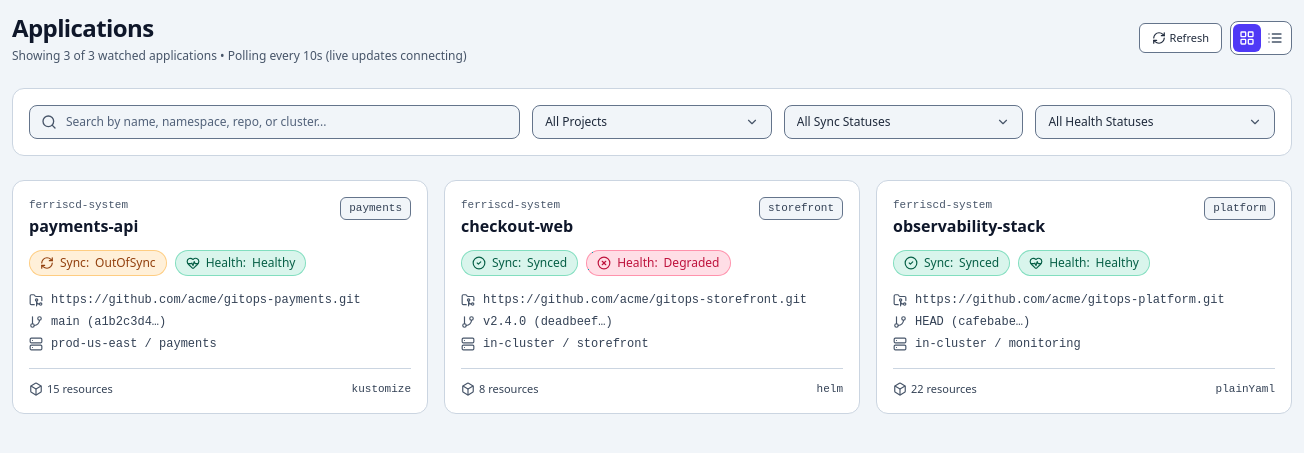
it: ApplicationsPage (T16.2 & Trap Guard T16.2) › seeds canonical sync/health options and keeps selected filter stable across polling updates (M5)
Expected: the heading "checkout-web" is shown, [461, 214, 573, 238]
Click the dropdown named "Filter by health status" at coordinates (1155, 122), box [1035, 105, 1275, 139]
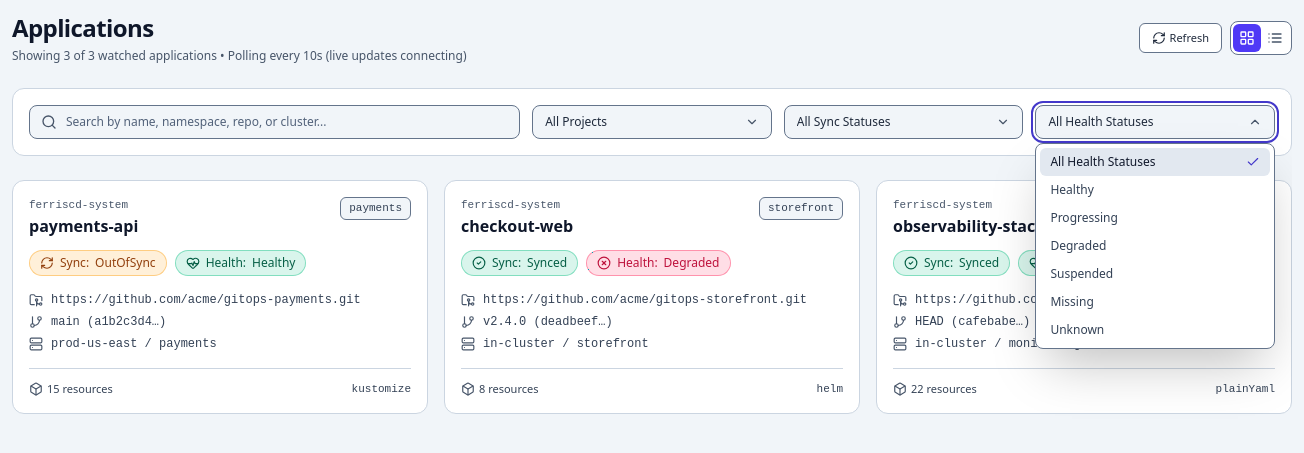
Now the option "Suspended" is shown, box [1050, 265, 1113, 282]
Now the option "Progressing" is shown, box [1050, 209, 1118, 226]
Note: Select Degraded, then refresh when all apps become Healthy
Click the option "Degraded" at coordinates (1078, 246), box [1050, 237, 1106, 254]
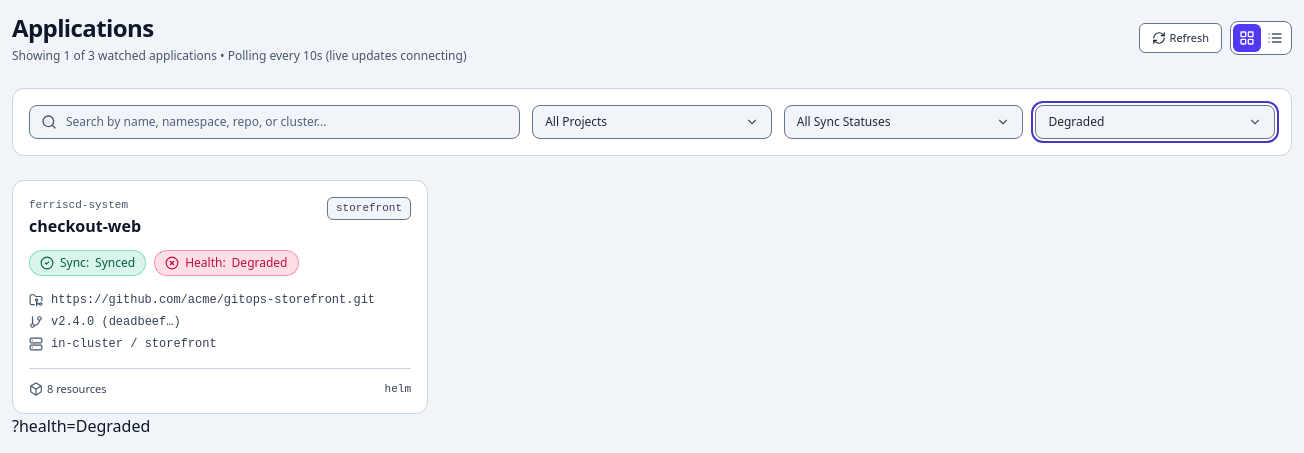
Expected: the heading "checkout-web" is shown, [29, 214, 141, 238]
Now the dropdown named "Filter by health status" reads "Degraded", box [1035, 105, 1275, 139]
Click the button "Refresh" at coordinates (1180, 38), box [1139, 23, 1222, 53]
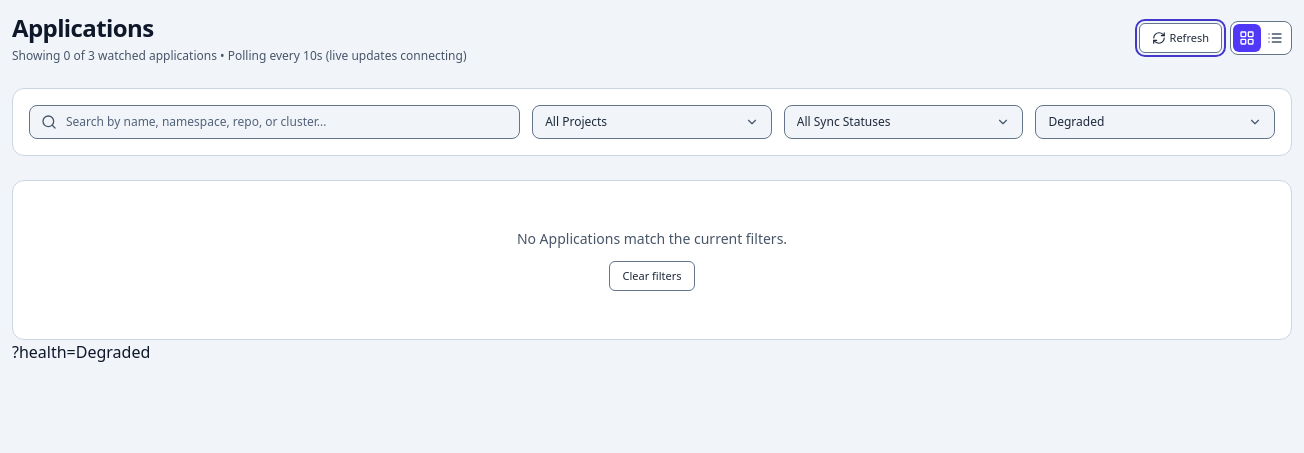
Now the dropdown named "Filter by health status" reads "Degraded", box [1035, 105, 1275, 139]
Now the text "No Applications match the current filters." is shown, box [517, 229, 787, 248]
Note: ...and the operator can recover with one click.
Click the button "Clear filters" at coordinates (652, 276), box [610, 261, 694, 291]
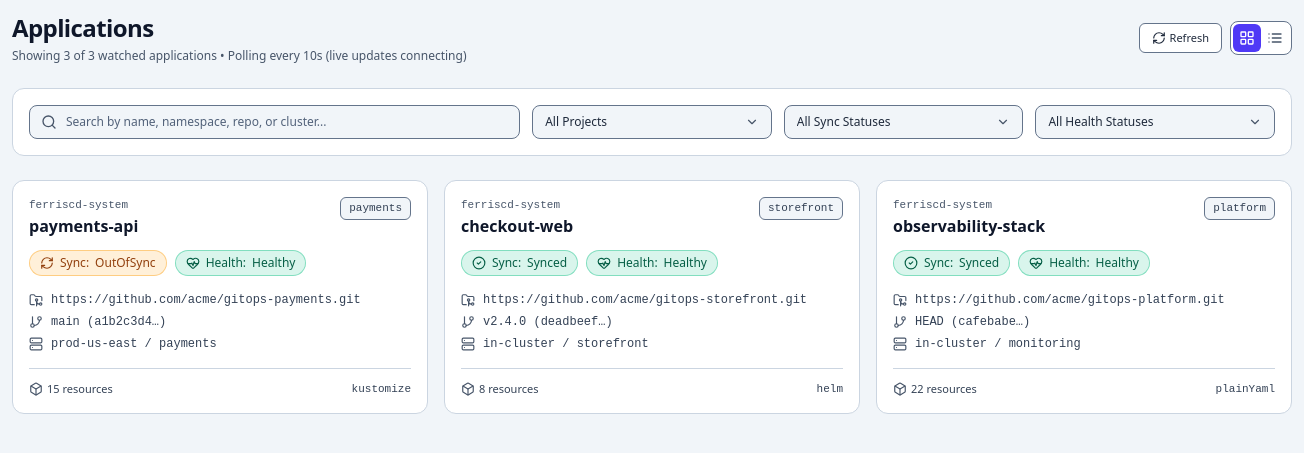
Now the heading "checkout-web" is shown, box [461, 214, 573, 238]
